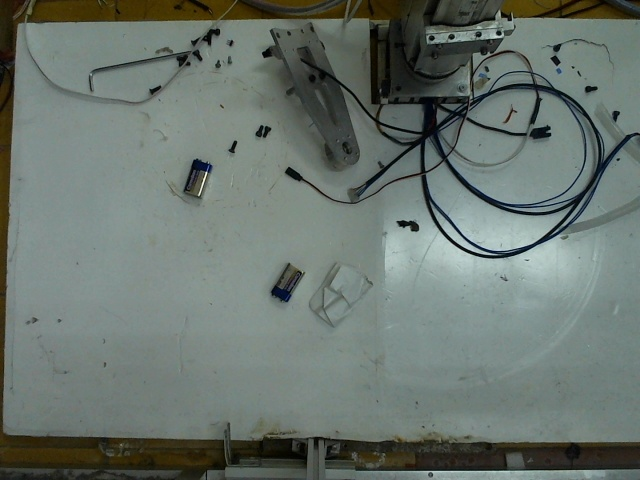battery: (268, 258, 305, 302), (183, 153, 214, 200)
